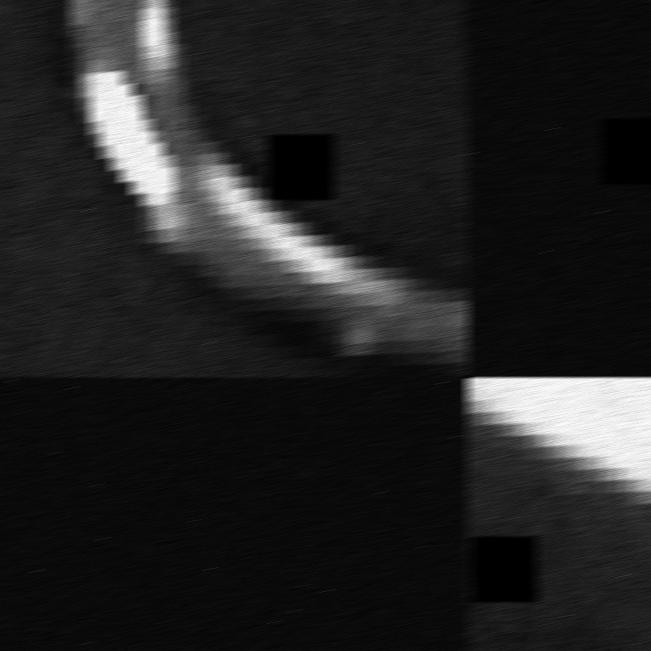Airbag: (0, 0, 470, 377), (466, 377, 651, 651)
